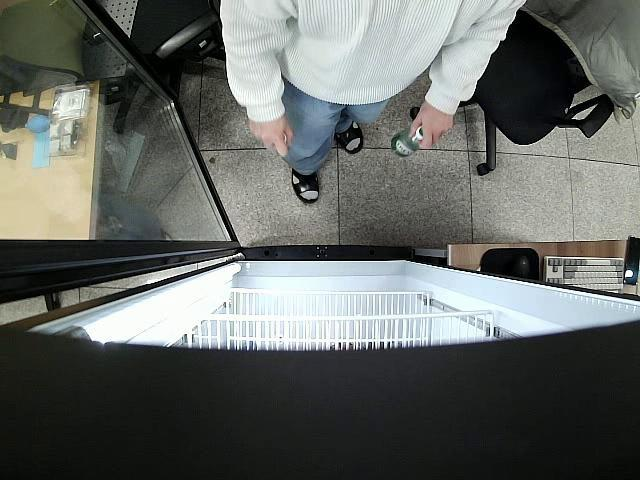18_trevi: (389, 124, 423, 158)
